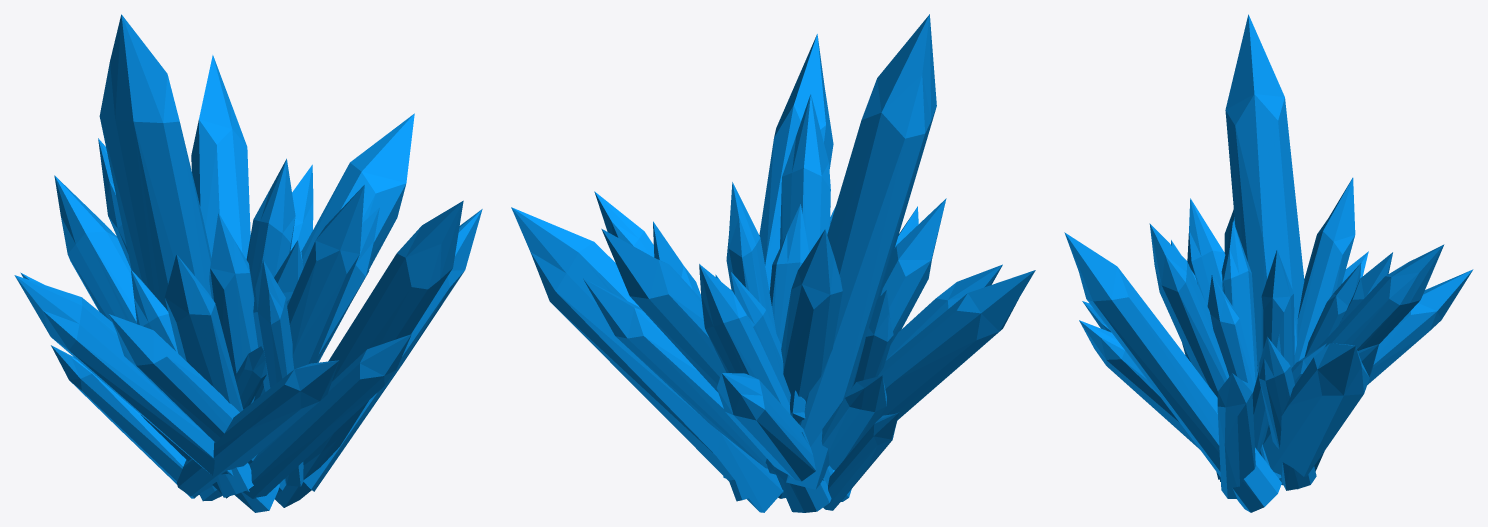
File: SP_Crystal02.fbx
The picture shows the model from 3 angles, left to right: view 1: azimuth 30°, elevation 25°; view 2: azimuth 150°, elevation 25°; view 3: azimuth 270°, elevation 25°; orthographic projection. The views are drawn at different scales.
Parts seen in each view (by area): view 1: SP_Crystal02; view 2: SP_Crystal02; view 3: SP_Crystal02.
Boxes of the visible parts, box(x1,y1,x2,y2) form: SP_Crystal02: box(14, 14, 482, 512); SP_Crystal02: box(511, 14, 1035, 512); SP_Crystal02: box(1064, 14, 1473, 512).
Bounding box in the file's own units: 173 × 187 × 163.
Materials: 1 (1 with a texture image).
